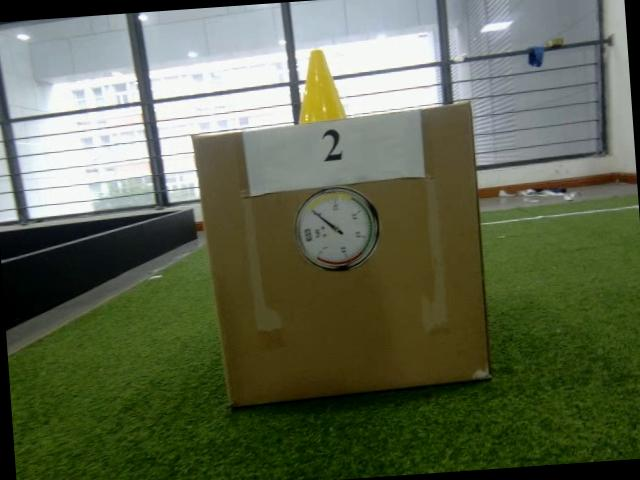2: (319, 128, 344, 162)
Dashboard: (291, 183, 384, 275)
ssi: (304, 228, 312, 241)
yellow_barrel: (291, 46, 346, 124)
